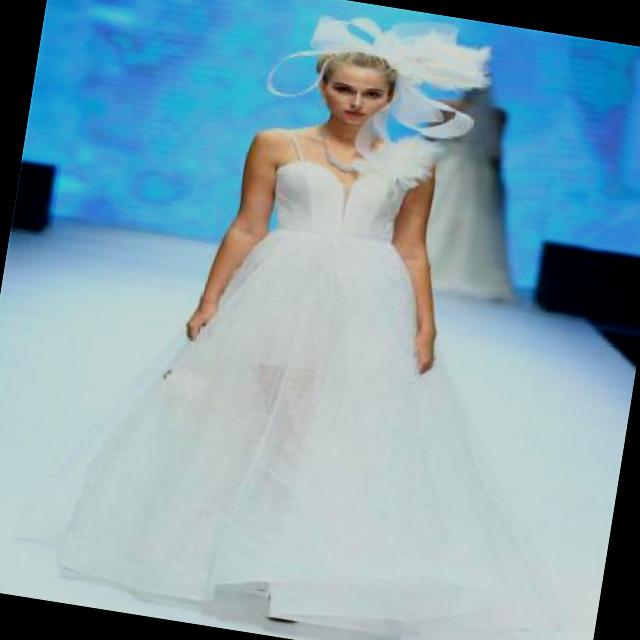Person: (101, 3, 608, 640)
